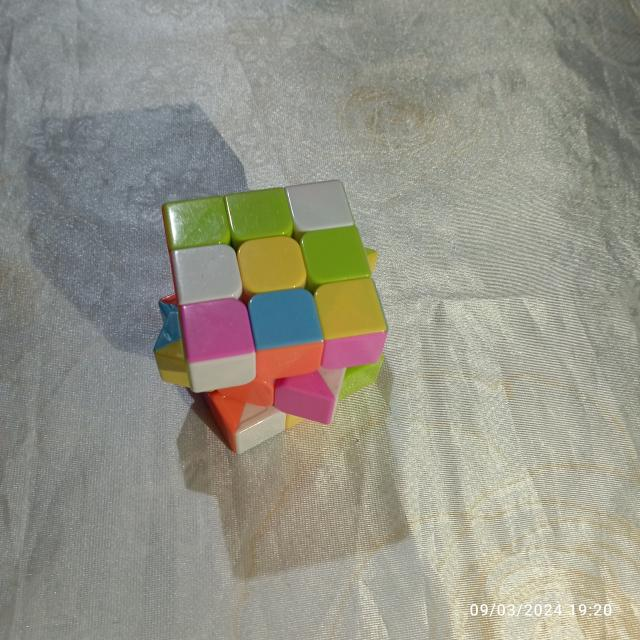Rub: (147, 176, 396, 460)
